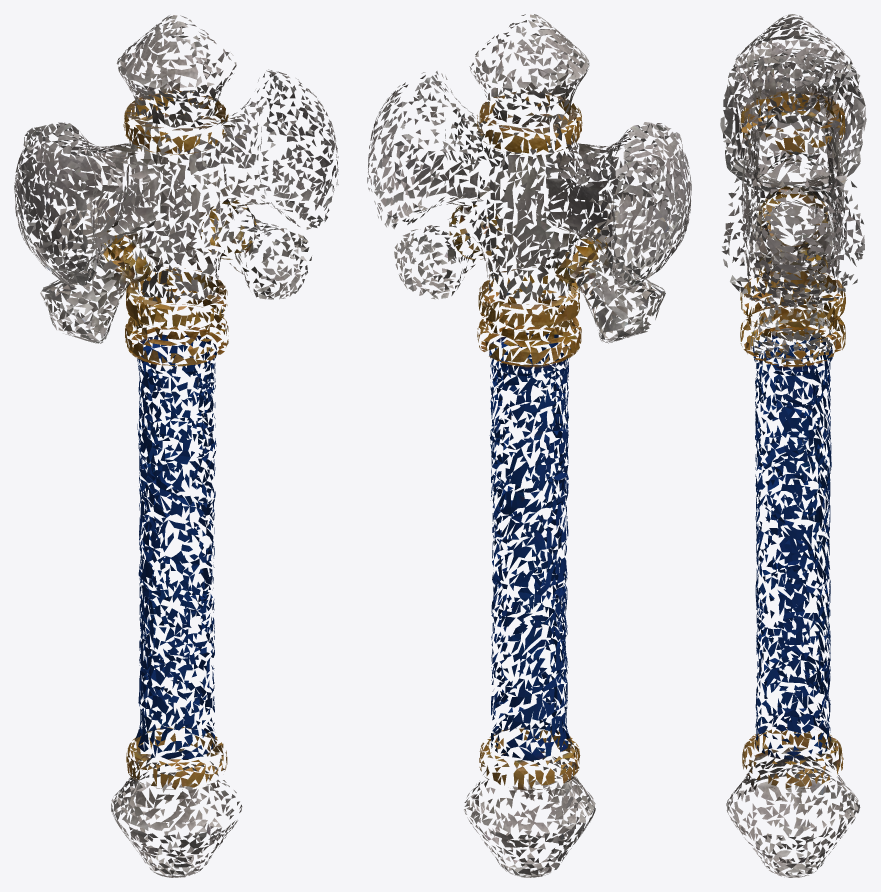
Rendered from w_mace.glb.
The picture shows the model from 3 angles, left to right: view 1: azimuth 30°, elevation 25°; view 2: azimuth 150°, elevation 25°; view 3: azimuth 270°, elevation 25°; orthographic projection.
Visible parts, largest first — view 1: shape_clean_textured; view 2: shape_clean_textured; view 3: shape_clean_textured.
Boxes of the visible parts, x1,y1,x2,y2 form: shape_clean_textured: (14, 15, 338, 877); shape_clean_textured: (367, 14, 691, 877); shape_clean_textured: (720, 14, 866, 877).
Bounding box in the file's own units: 0.7179 × 1.99 × 0.3084.
1 material, 1 textured.
